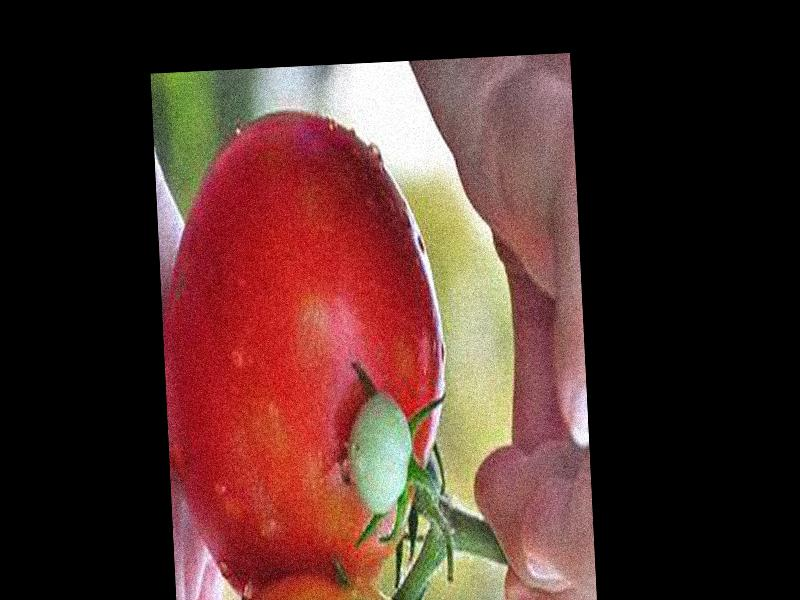Tomato: (152, 105, 456, 599)
